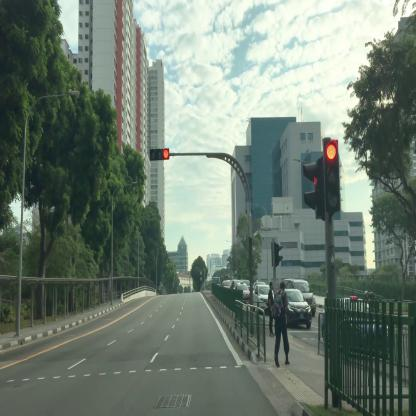red_traffic_light: (324, 140, 340, 209), (148, 148, 170, 161)
